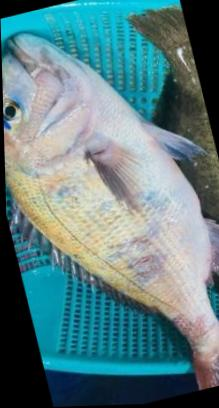fish: (1, 34, 219, 392)
